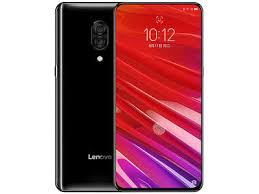lenovo: (53, 1, 207, 192), (112, 1, 205, 192), (55, 1, 112, 193)
